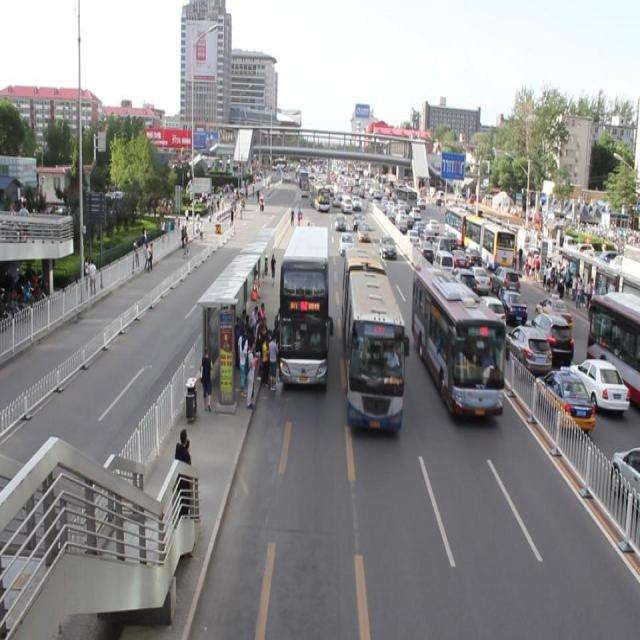car: (337, 230, 353, 258), (379, 237, 396, 260), (357, 224, 370, 244), (332, 212, 344, 230), (331, 191, 340, 210), (350, 195, 360, 212), (352, 214, 360, 230)
truck: (341, 197, 352, 213)
van: (411, 269, 502, 417), (342, 248, 402, 437), (280, 225, 328, 388), (309, 184, 328, 212)
